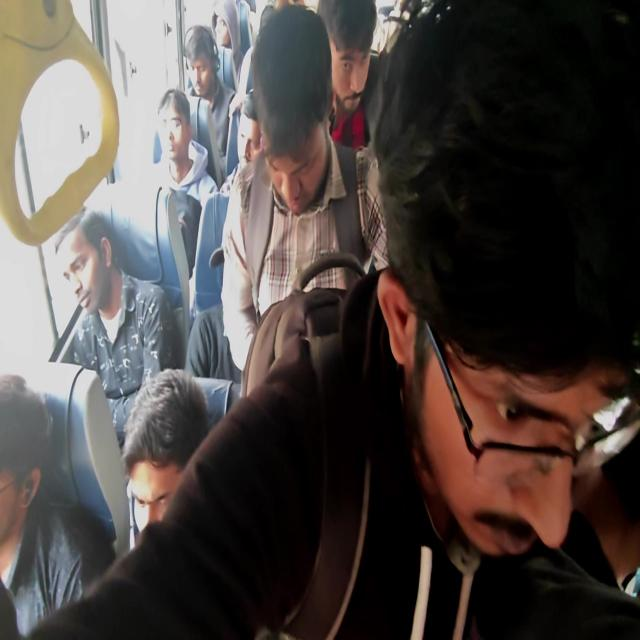person: (394, 38, 640, 640), (124, 406, 224, 563), (257, 25, 325, 198), (47, 218, 124, 322), (0, 379, 48, 536), (326, 0, 374, 113), (240, 109, 276, 203), (174, 37, 224, 102), (160, 99, 193, 166), (211, 6, 233, 48)
